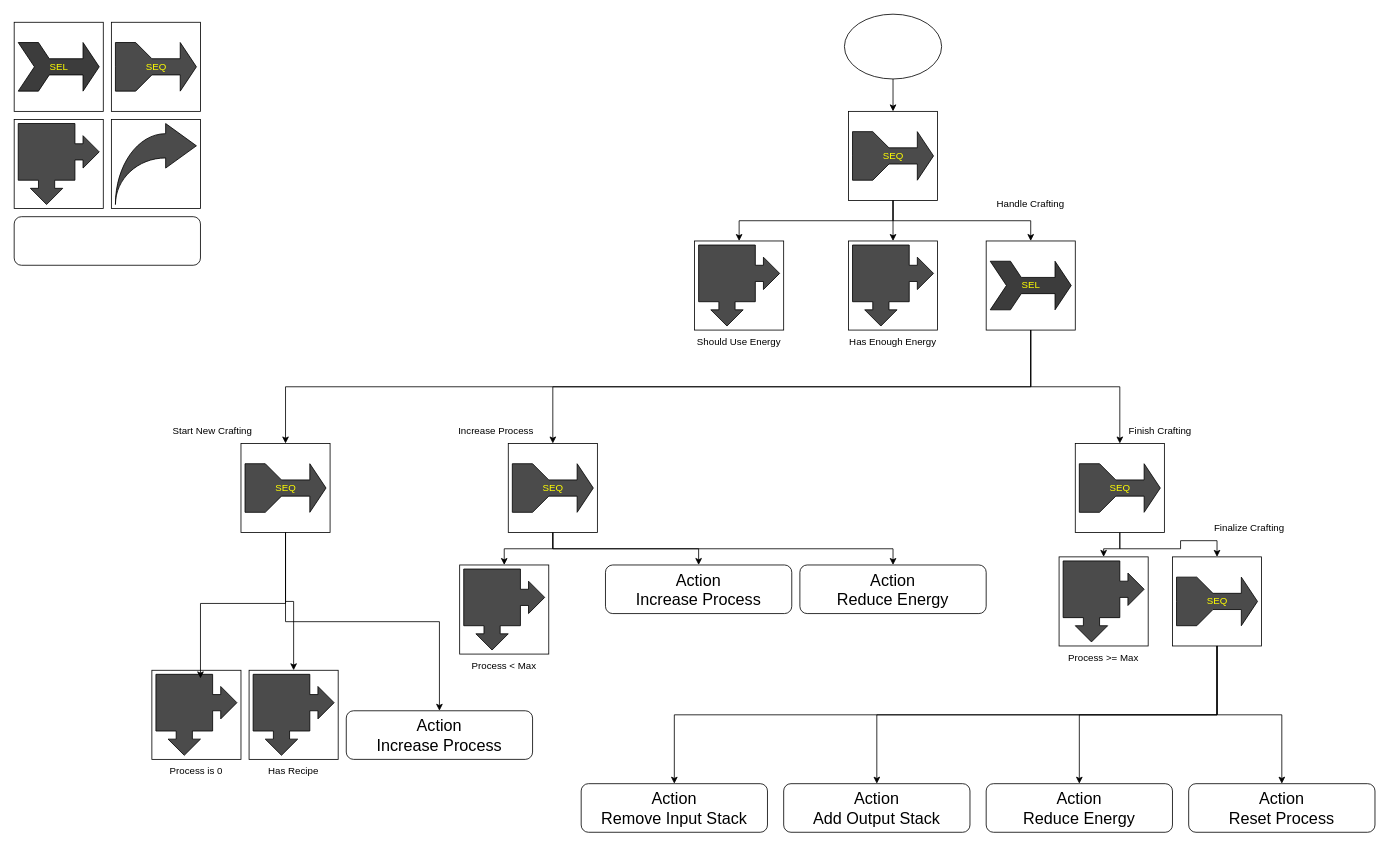
Image size: 1389x846. Some labels were removed from this diagram. The shapes that lost their labels are listed below. From the top down, each one's centre as x and y in pixels, then its label:
At point 893,46: "START".
At point 106,240: "Action".
